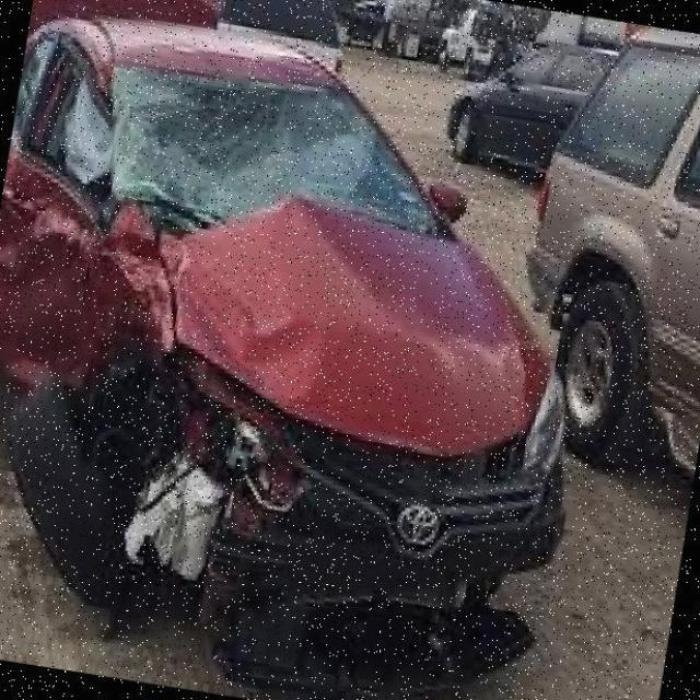Accident: (0, 0, 645, 700)
